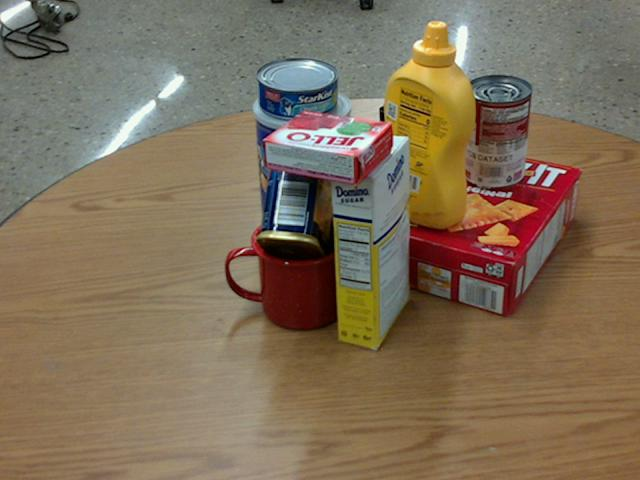cracker_box: (360, 139, 579, 316)
gelatin_box: (260, 109, 393, 185)
large_marker: (376, 104, 393, 204)
master_chef_can: (253, 84, 351, 240)
mug: (222, 212, 346, 330)
mustard_bottle: (377, 21, 475, 228)
potted_meat_can: (255, 148, 335, 267)
sugar_box: (328, 132, 408, 349)
tomato_soup_can: (461, 74, 530, 188)
tuna_fish_can: (255, 57, 337, 118)
